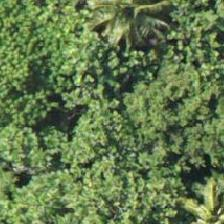coconut_tree: (88, 0, 178, 58)
